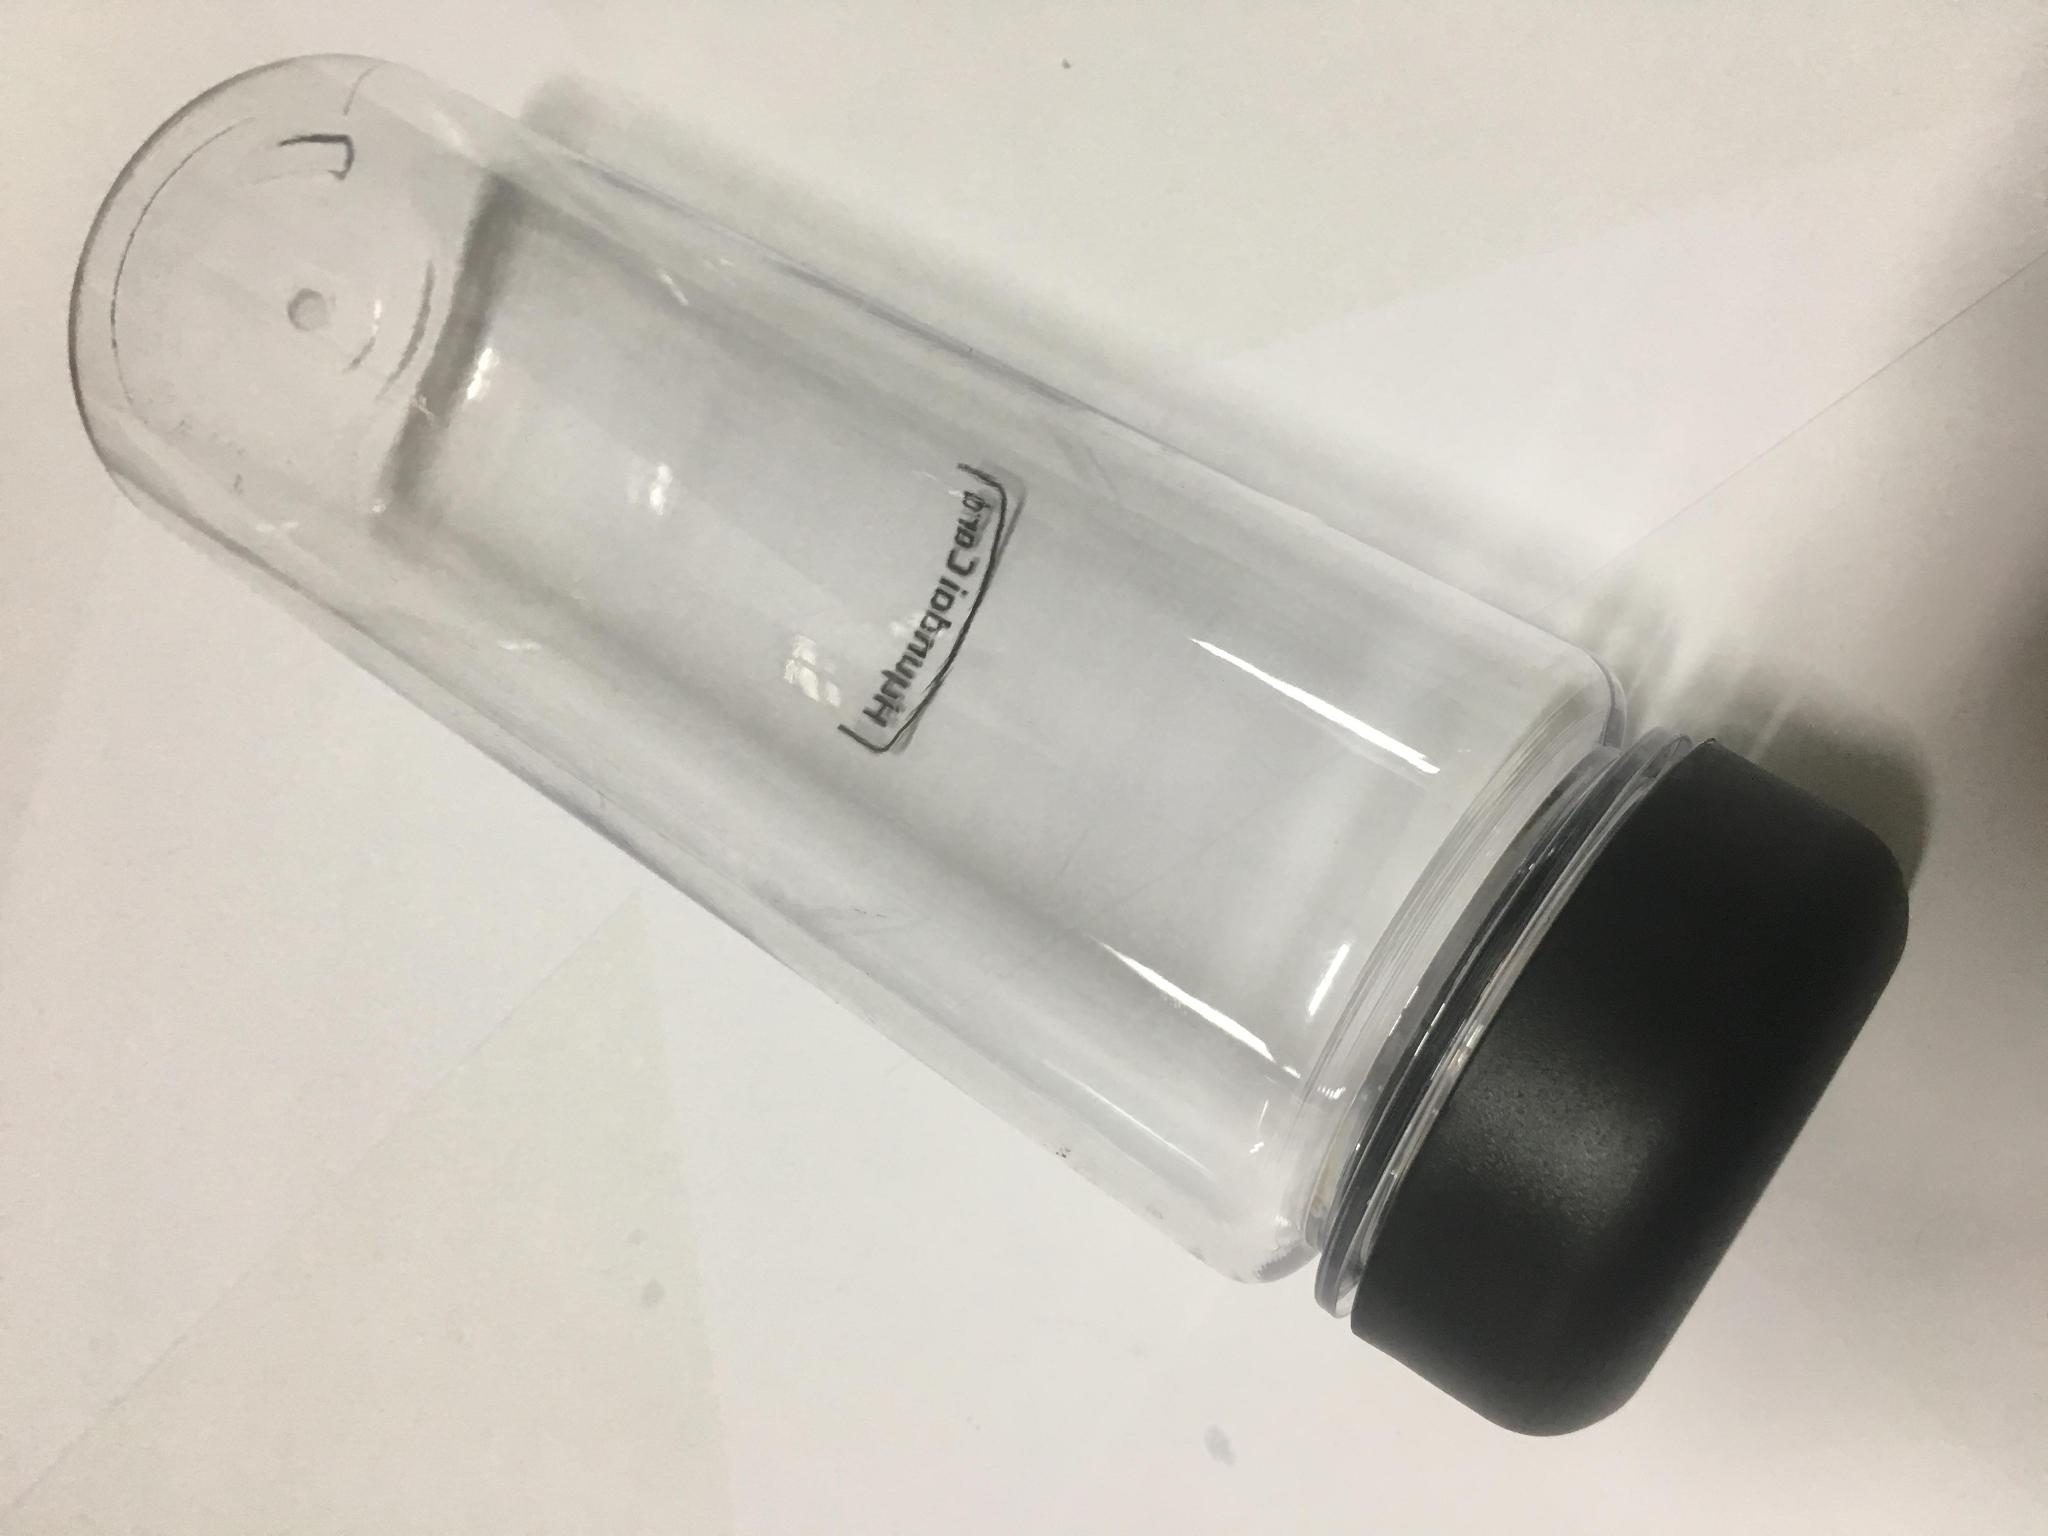bottle: (61, 34, 1911, 1447)
